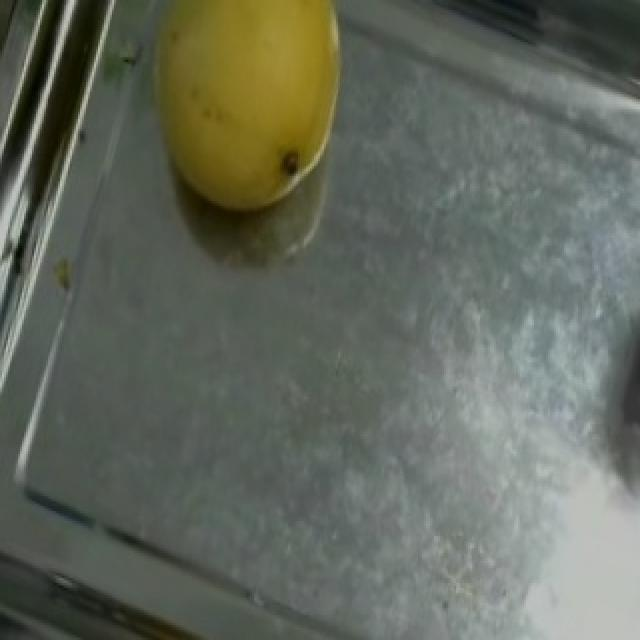fruit: (104, 0, 416, 246)
